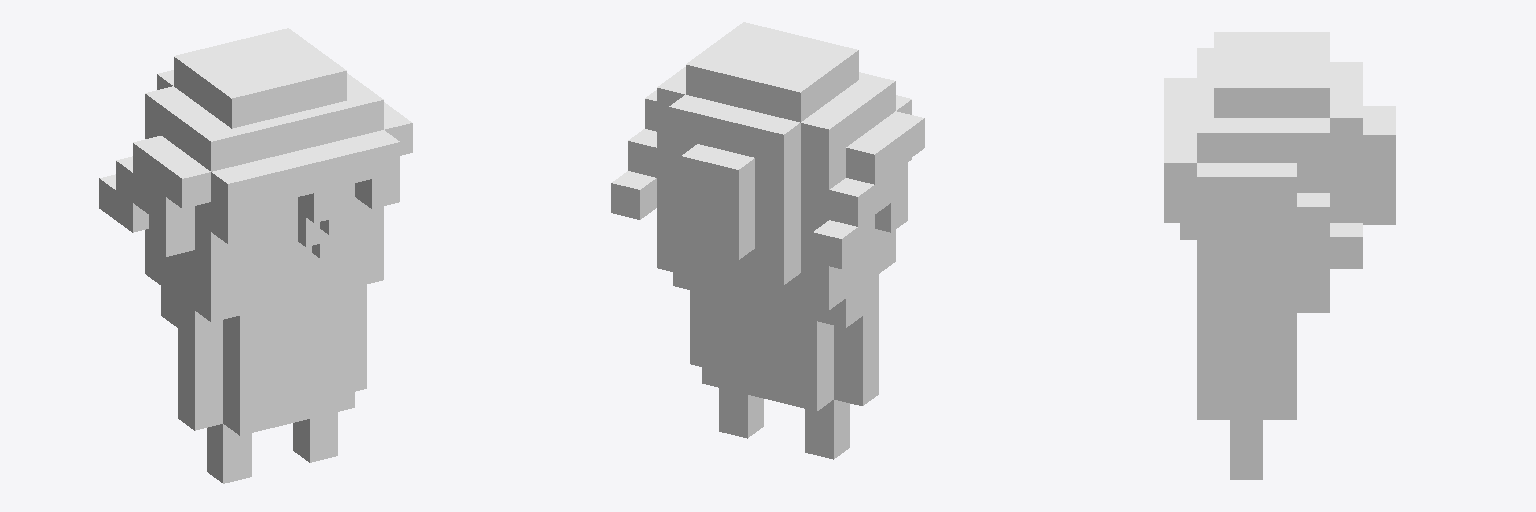
The model's file is TestChar.obj.
The picture shows the model from 3 angles: view 1: azimuth 30°, elevation 25°; view 2: azimuth 150°, elevation 25°; view 3: azimuth 270°, elevation 25°; orthographic projection.
Parts seen in each view (by area): view 1: object 1; view 2: object 1; view 3: object 1.
Part boxes in pixels (left/top/right/bottom): object 1: left=99, top=28, right=412, bottom=483; object 1: left=611, top=22, right=924, bottom=459; object 1: left=1164, top=32, right=1395, bottom=479.
Size of the model in its own units: 1.6 by 2.6 by 1.4.